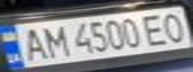0: (118, 15, 145, 49), (103, 17, 127, 52)
4: (69, 19, 93, 55)
5: (87, 18, 109, 53)
A: (15, 25, 51, 62)
E: (136, 11, 172, 47)
M: (36, 22, 69, 58)
O: (157, 10, 193, 43)
